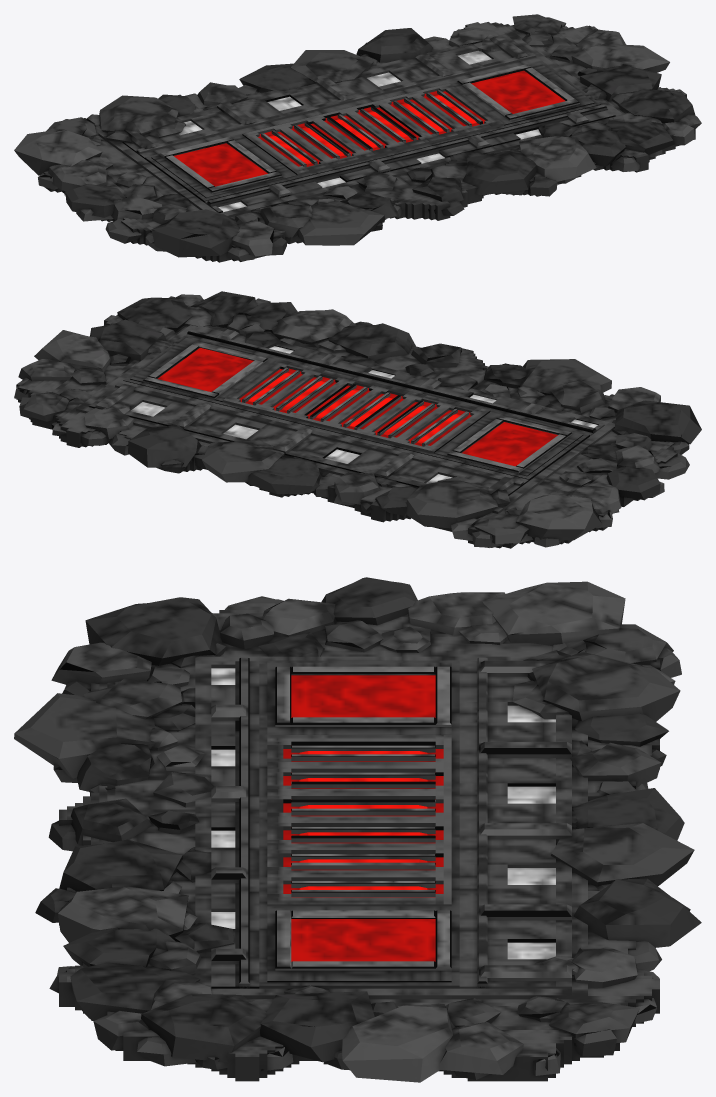
Rendered from l1bld-red-bar.glb.
3 views of the same model, one above another, from view 1: azimuth 30°, elevation 25°; view 2: azimuth 150°, elevation 25°; view 3: azimuth 270°, elevation 25° (orthographic). The views are drawn at different scales.
Visible parts, largest first — view 1: shapesz-l1bld-red-bar-parts, shapesz-l1bld-red-bar-deck; view 2: shapesz-l1bld-red-bar-parts, shapesz-l1bld-red-bar-deck; view 3: shapesz-l1bld-red-bar-parts, shapesz-l1bld-red-bar-deck.
Part boxes in pixels (left/top/right/bottom): shapesz-l1bld-red-bar-parts: left=14, top=14, right=701, bottom=260; shapesz-l1bld-red-bar-deck: left=43, top=22, right=695, bottom=262; shapesz-l1bld-red-bar-parts: left=14, top=291, right=701, bottom=547; shapesz-l1bld-red-bar-deck: left=16, top=296, right=677, bottom=548; shapesz-l1bld-red-bar-parts: left=14, top=577, right=701, bottom=1082; shapesz-l1bld-red-bar-deck: left=59, top=603, right=659, bottom=1081.
Bounding box in the file's own units: 12.04 × 0.5462 × 7.16.
9 materials, 9 textured.
